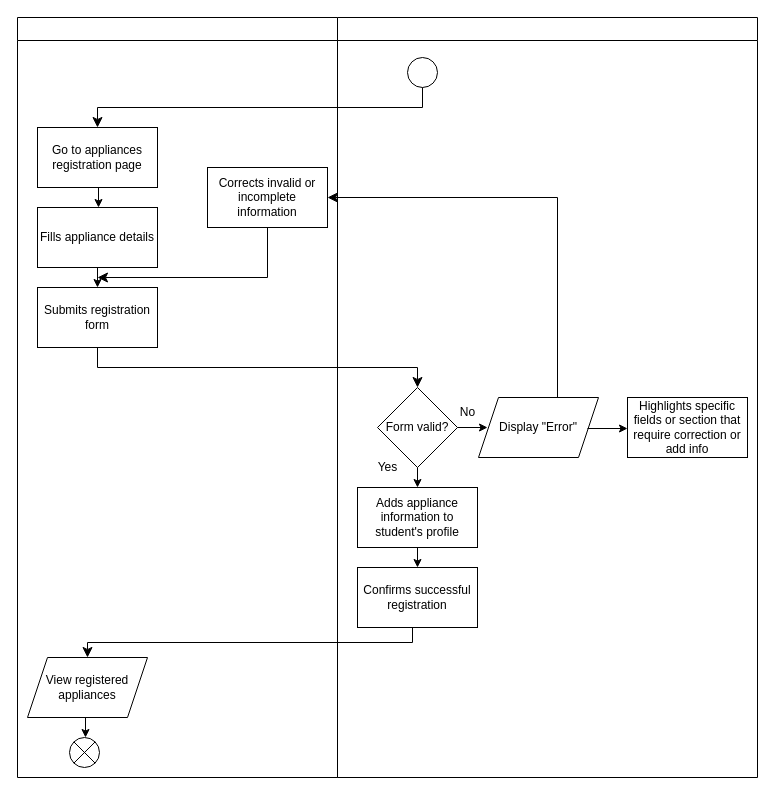
Some shapes in this 775 by 795 pixel diagram are drawn without their labels. The shapes that lost their labels are listed below. From the top down, each one's box as (x1, y1, x2, y2) in pixels, then its label:
(16, 16, 338, 778): Student
(336, 16, 758, 778): System
